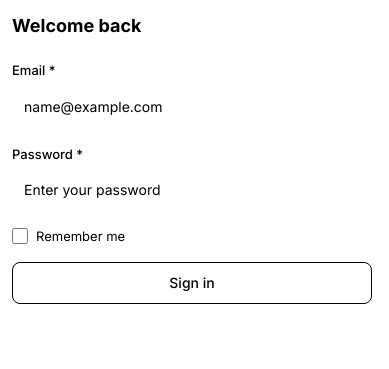
LoginForm › shows validation errors when fields are empty
Click the button "Sign in".
click(192, 283)  # box 12,262 -> 372,304
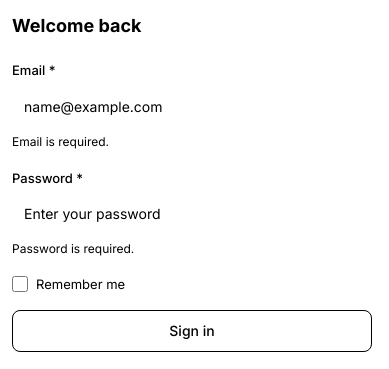
Result: the text "Email is required." is shown at 12,134 -> 109,148
Result: the text "Password is required." is shown at 12,241 -> 134,256
